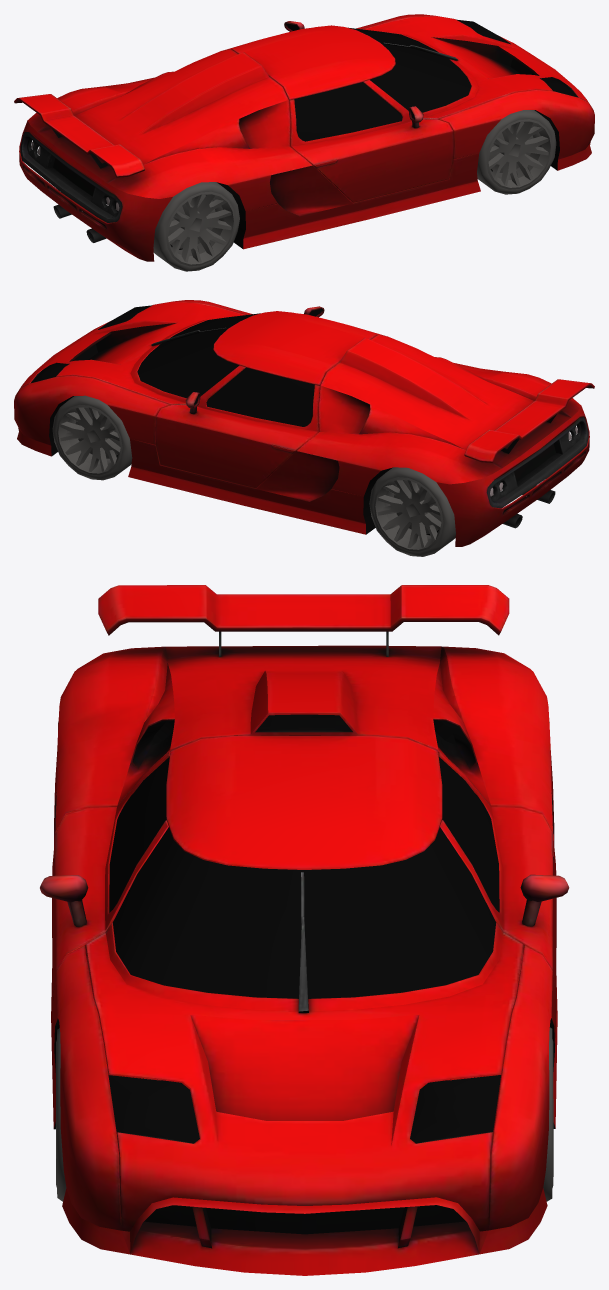
The model's file is pc-sport.lod0.glb.
The picture shows the model from 3 angles, top to bottom: view 1: azimuth 30°, elevation 25°; view 2: azimuth 150°, elevation 25°; view 3: azimuth 270°, elevation 25°; orthographic projection. The views are drawn at different scales.
Visible parts, largest first — view 1: Sport body_Body_0, Wheel_H_Wheel_0; view 2: Sport body_Body_0, Wheel_H_Wheel_0; view 3: Sport body_Body_0, Wheel_H_Wheel_0.
Boxes of the visible parts, x1,y1,x2,y2 form: Sport body_Body_0: [14, 14, 594, 261]; Wheel_H_Wheel_0: [31, 19, 578, 271]; Sport body_Body_0: [14, 300, 594, 546]; Wheel_H_Wheel_0: [31, 305, 577, 556]; Sport body_Body_0: [40, 585, 569, 1275]; Wheel_H_Wheel_0: [56, 721, 553, 1201].
Bounding box in the file's own units: 3.91 × 1.04 × 1.77.
2 materials, 1 textured.
